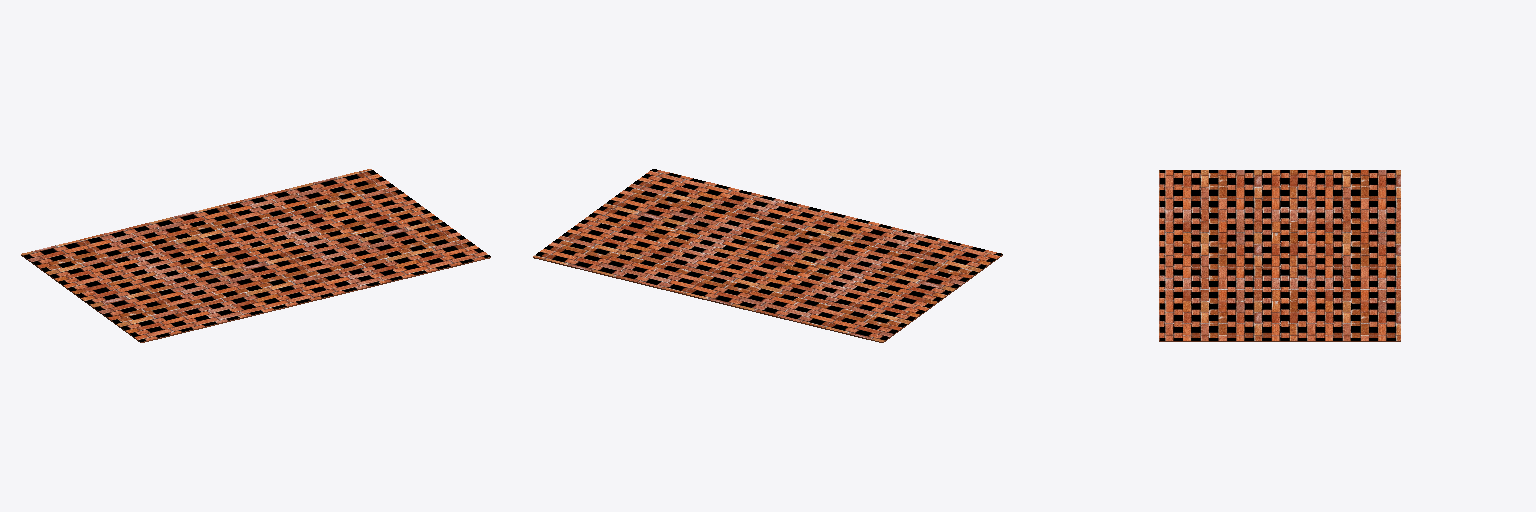
The picture shows the model from 3 angles: view 1: azimuth 30°, elevation 25°; view 2: azimuth 150°, elevation 25°; view 3: azimuth 270°, elevation 25°; orthographic projection.
Parts seen in each view (by area): view 1: Box001; view 2: Box001; view 3: Box001.
Part boxes in pixels (x1,y1,x2,y2): Box001: (21,169,490,342); Box001: (533,169,1002,342); Box001: (1159,170,1400,341).
Bounding box in the file's own units: 3100 × 10 × 1850.
1 materials, 1 textured.